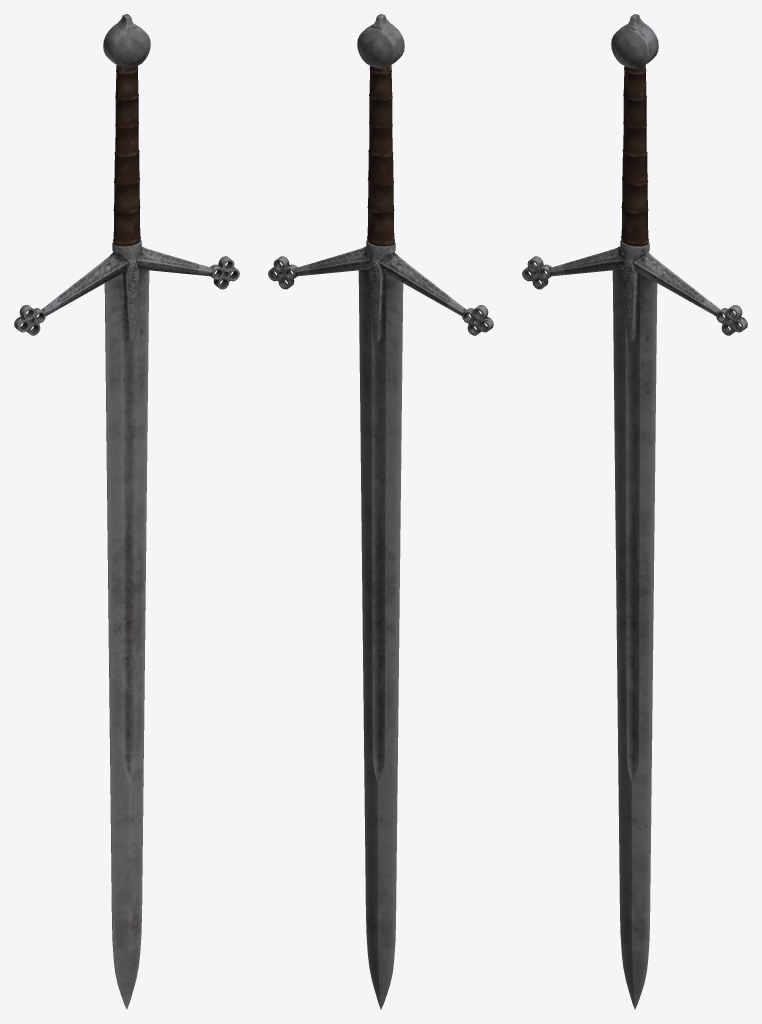
File: weapon-wp_a_0601.glb
The picture shows the model from 3 angles, left to right: view 1: azimuth 30°, elevation 25°; view 2: azimuth 150°, elevation 25°; view 3: azimuth 330°, elevation 25°; orthographic projection.
Parts seen in each view (by area): view 1: wp_a_0601_mesh; view 2: wp_a_0601_mesh; view 3: wp_a_0601_mesh.
Part boxes in pixels (box(x1,y1,x2,y2)): wp_a_0601_mesh: box(14, 14, 239, 1009); wp_a_0601_mesh: box(268, 14, 493, 1009); wp_a_0601_mesh: box(522, 14, 747, 1009).
Size of the model in its own units: 0.372 by 1.59 by 0.0489.
1 material, 1 textured.
